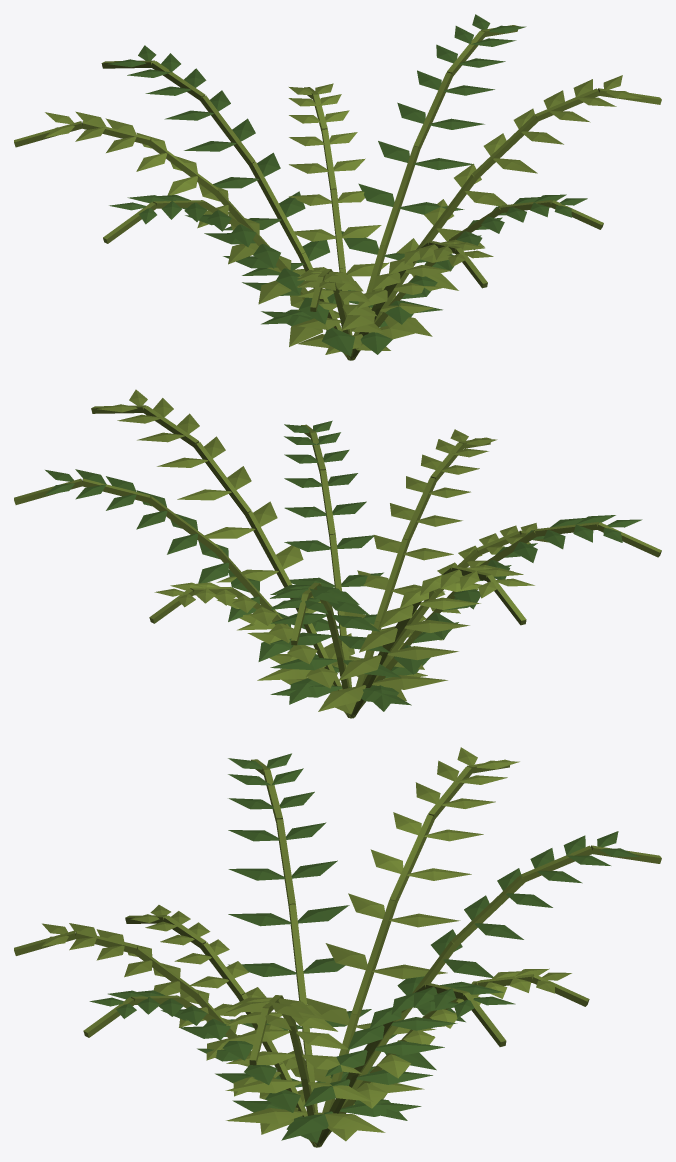
Rendered from b13_fern.fbx.
3 views of the same model, one above another, from view 1: azimuth 30°, elevation 25°; view 2: azimuth 150°, elevation 25°; view 3: azimuth 270°, elevation 25° (orthographic). The views are drawn at different scales.
Visible parts, largest first — view 1: b13_fern; view 2: b13_fern; view 3: b13_fern.
Boxes of the visible parts, <box> form: b13_fern: <box>14,14,661,360</box>; b13_fern: <box>14,389,661,718</box>; b13_fern: <box>14,747,661,1147</box>.
Size of the model in its own units: 12151 by 10844 by 4947.
